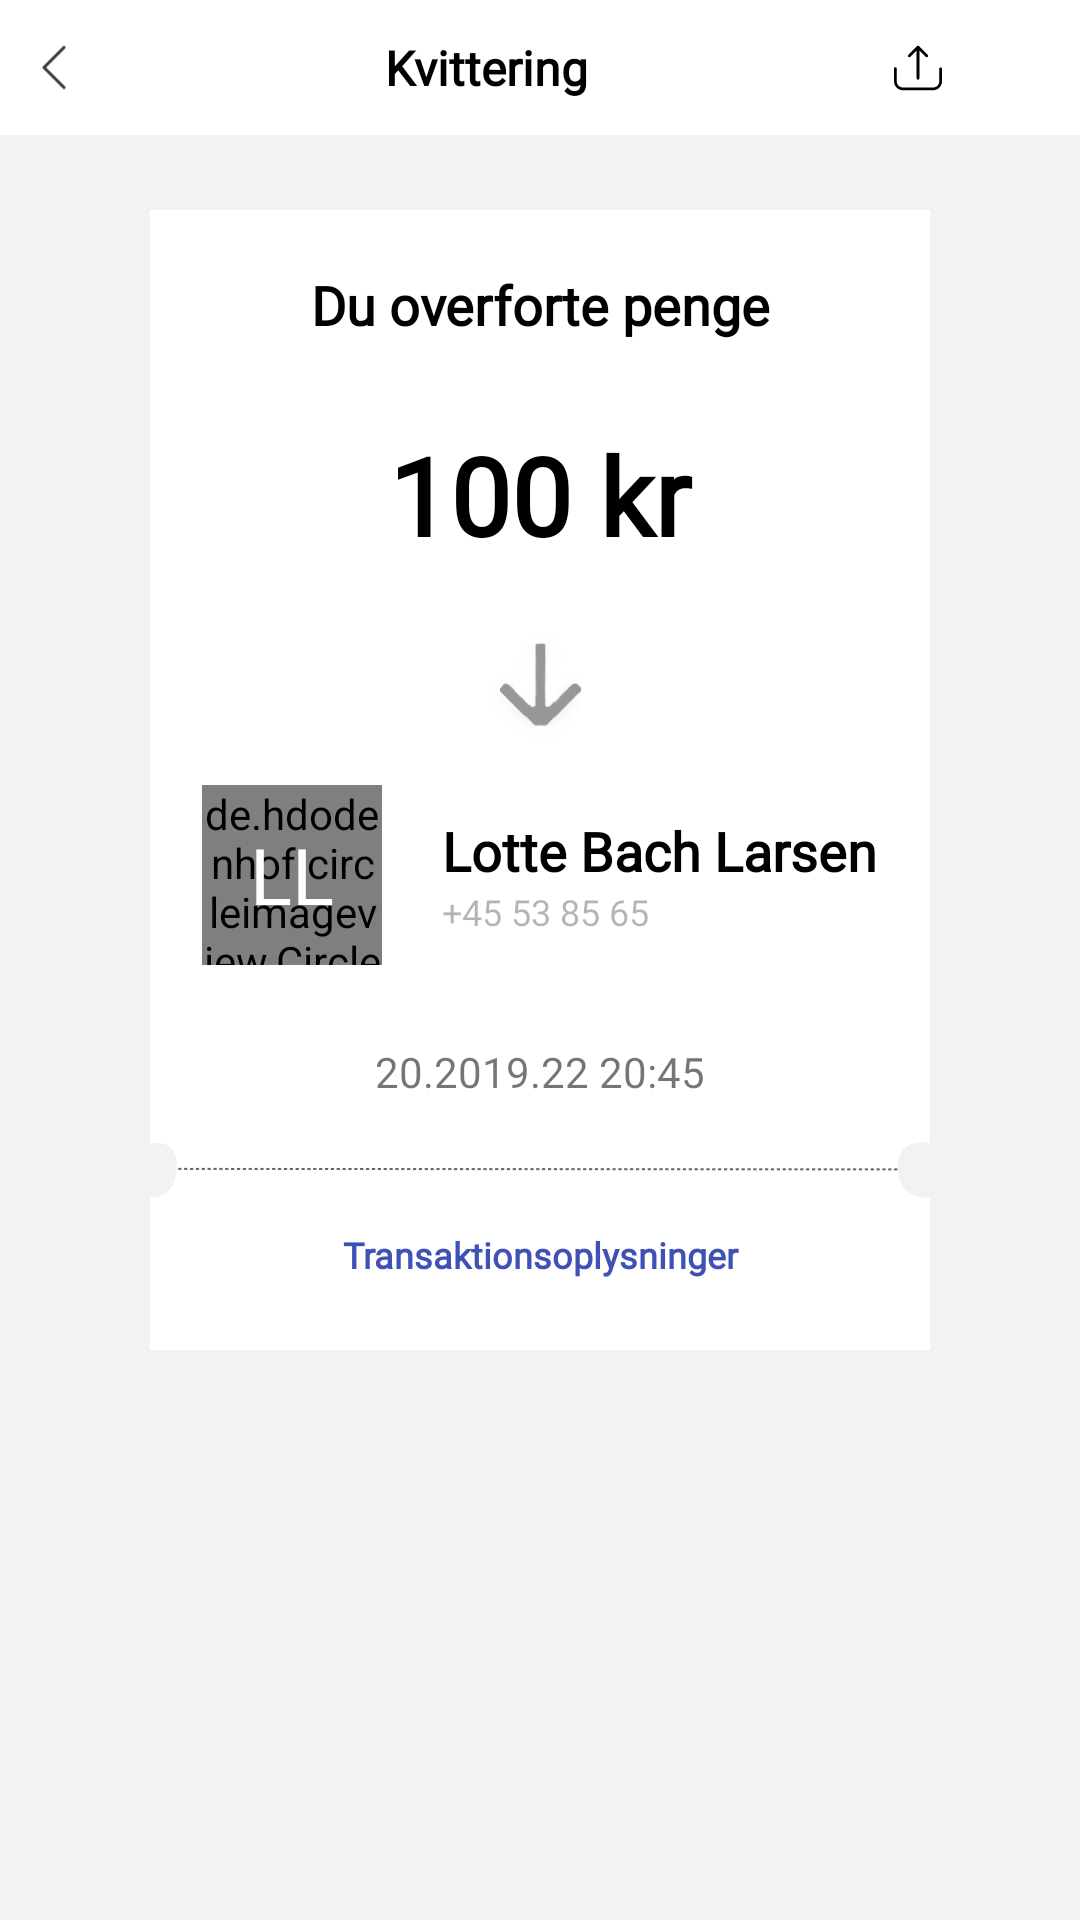

Where icons sit on this 1080px×1920px app screen, as (x1, y1, x2, y2):
arrowapp: (500, 643, 581, 726)
upload: (894, 45, 942, 91)
